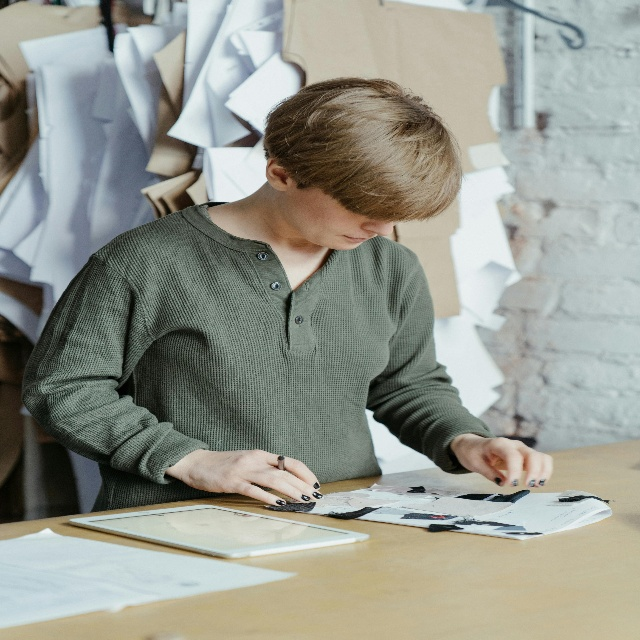Sin_guantes: (186, 447, 323, 508), (458, 433, 554, 488)
